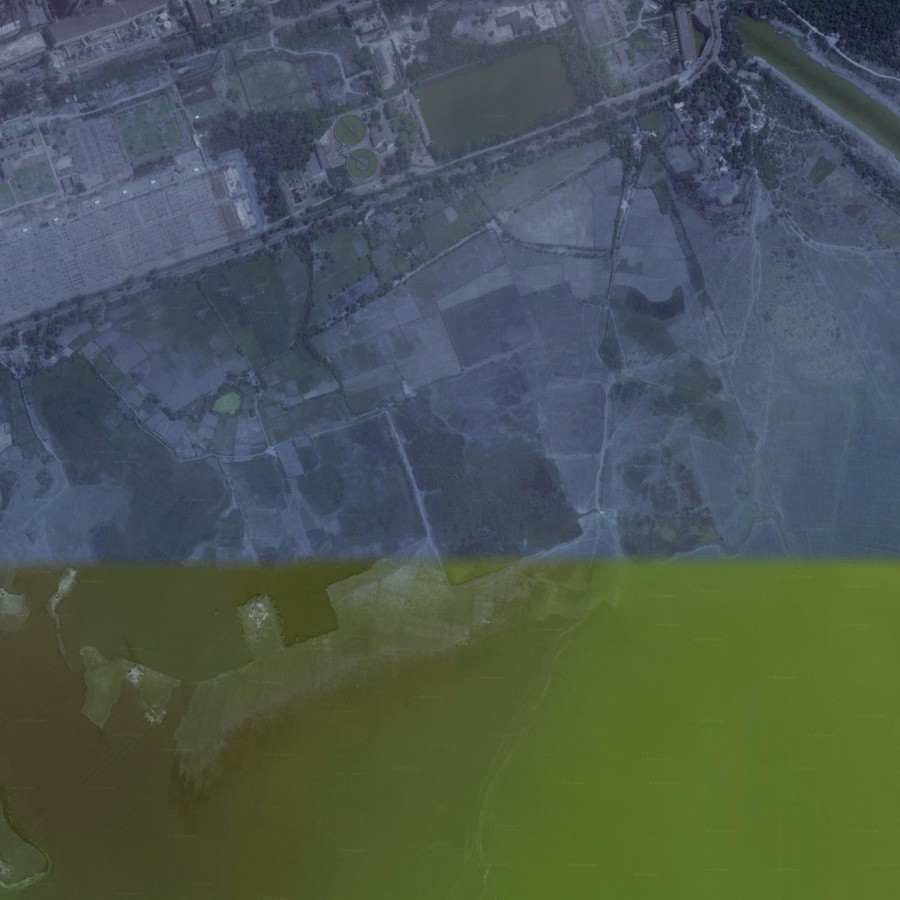PowerPlant: (404, 22, 586, 170)
